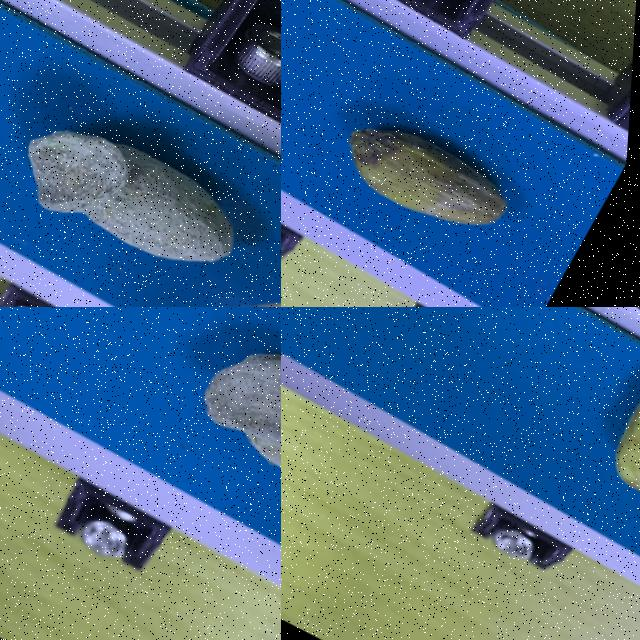Agglomerated_cocoabeans: (0, 13, 280, 306), (87, 307, 280, 575)
Fine_cocoabeans: (281, 51, 588, 299), (523, 320, 639, 564)
